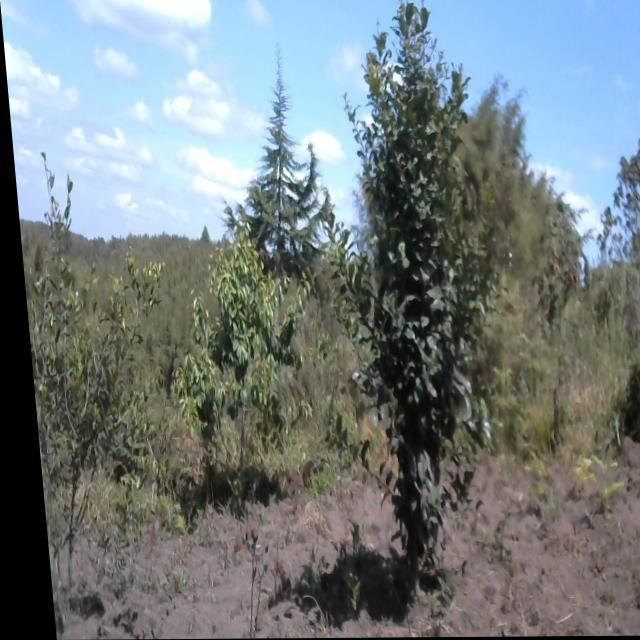Lemon Myrtle: (155, 224, 332, 521)
cedrus: (209, 48, 341, 282)
other: (309, 0, 551, 638), (16, 229, 177, 558), (588, 110, 640, 277), (528, 206, 596, 327)
